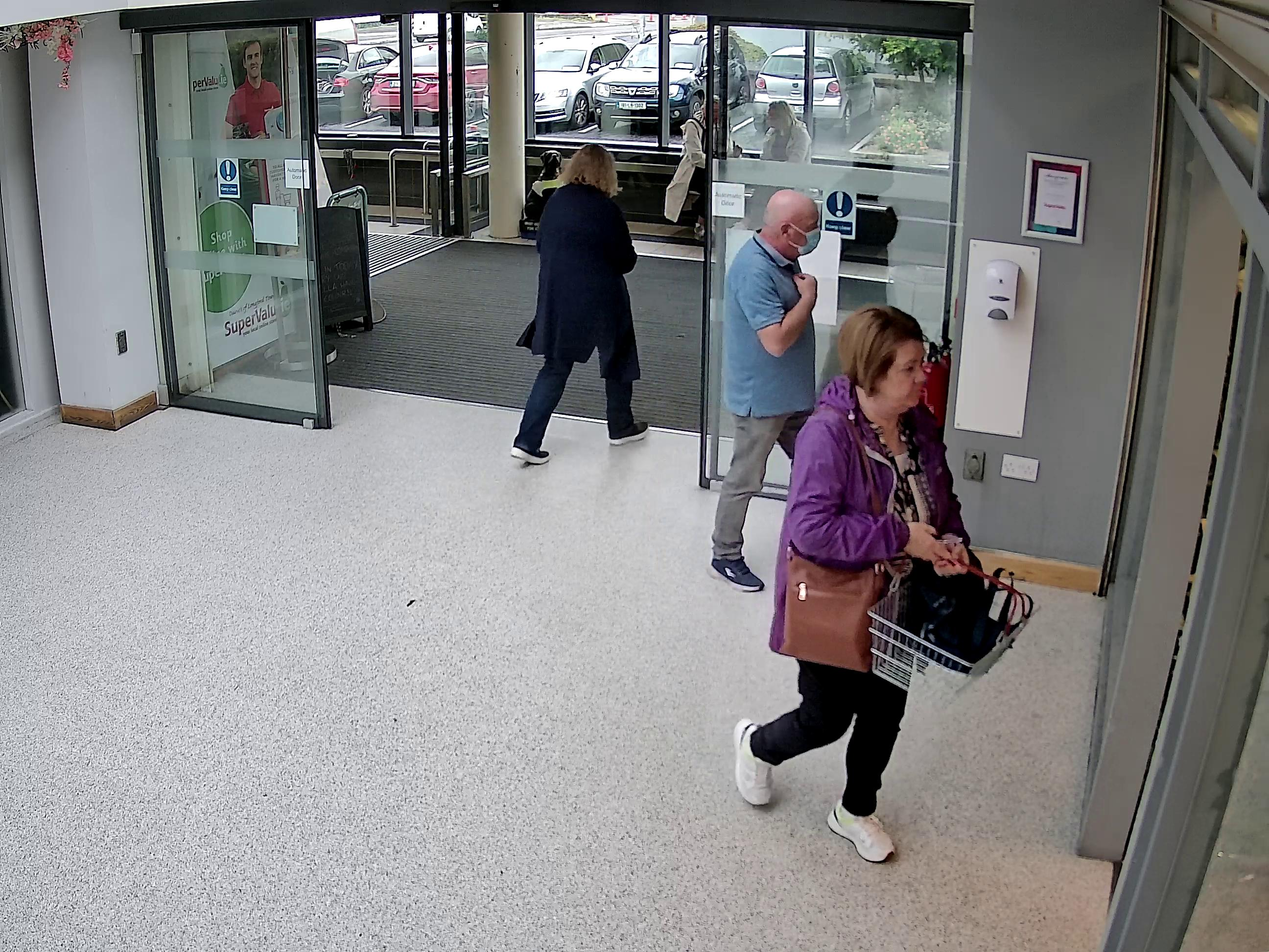backpack-or-handbag: (779, 542, 888, 672)
empty-basket: (868, 563, 1037, 707)
empty-shopping-bags: (910, 567, 1032, 667)
person: (737, 305, 969, 864)
person-with-basket-trolly-shopping-bag-s-and-backpack-handbag: (737, 305, 1038, 862)
